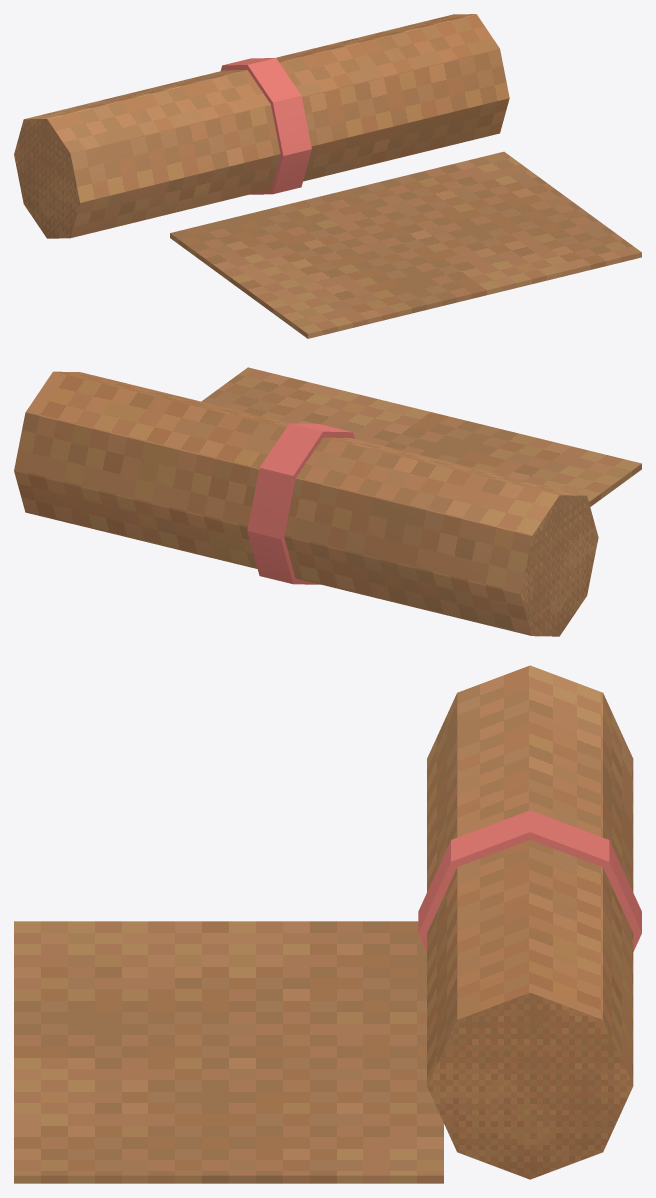
File: map_scroll.glb
The picture shows the model from 3 angles, top to bottom: view 1: azimuth 30°, elevation 25°; view 2: azimuth 150°, elevation 25°; view 3: azimuth 270°, elevation 25°; orthographic projection. The views are drawn at different scales.
Visible parts, largest first — view 1: map_scroll; view 2: map_scroll; view 3: map_scroll.
Boxes of the visible parts, <box> form: map_scroll: <box>14,14,641,338</box>; map_scroll: <box>14,367,641,636</box>; map_scroll: <box>14,665,641,1183</box>.
Size of the model in its own units: 0.9 by 0.26 by 0.73.
Materials: 2 (1 with a texture image).
